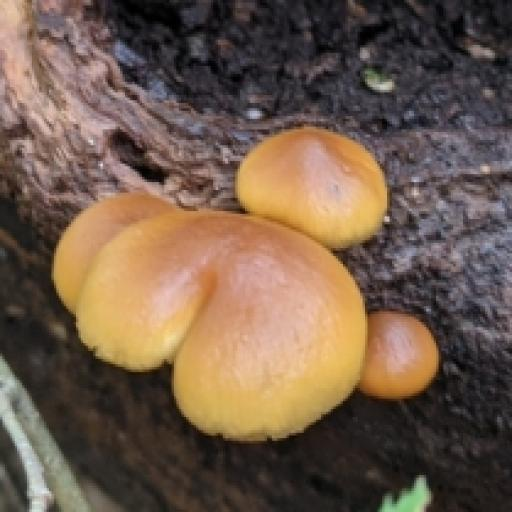mushroom: (43, 118, 443, 446)
